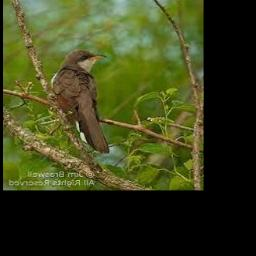Cuckoo: (50, 50, 110, 153)
